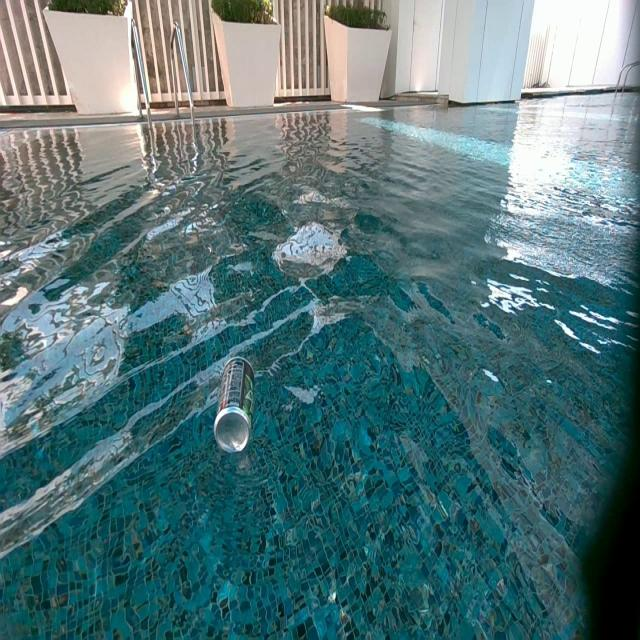Cans: (214, 353, 256, 457)
